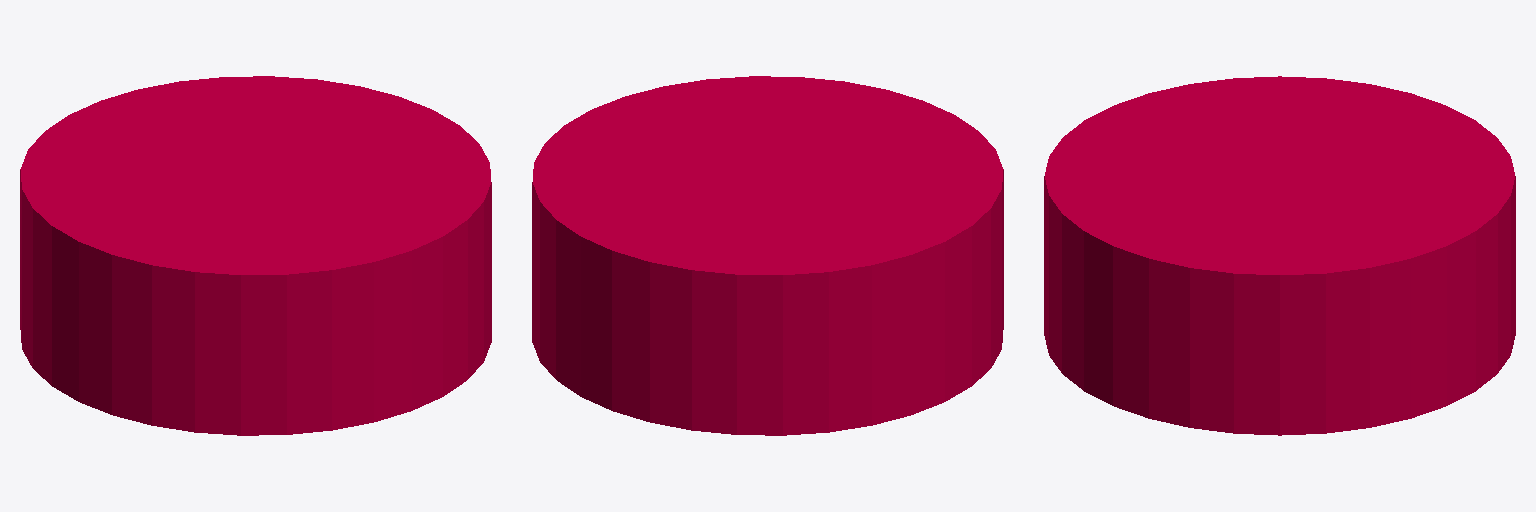
The robot description file, URDF, robot "palm":
<robot name="palm">

  <link name="palm">
		<visual>
		    <origin xyz="0 0 0." rpy="0 0 0"/>
			<geometry>
                <cylinder length="0.3" radius="0.4" />
			</geometry>
			<material name="anotherOne">
	       		<color rgba=".8 0. 0.3 1.0"/>
	     	</material>
		</visual>
        <collision>
          <geometry>
                <cylinder length="0.3" radius="0.4" />
          </geometry>
        </collision>
        <inertial>
          <mass value="1.5"/>
        <inertia ixx=".50" ixy="0.0" ixz="0" iyy=".5" iyz="0.0" izz=".5"/>
    </inertial>
  </link>

</robot>

--- Render facts (derived) ---
The picture shows the robot from 3 angles, left to right: view 1: azimuth 30°, elevation 25°; view 2: azimuth 150°, elevation 25°; view 3: azimuth 270°, elevation 25°; orthographic projection.
Model palm with 1 links and 0 joints (none), rooted at palm, posed all joints at 0.
Links seen in each view (by area): view 1: palm; view 2: palm; view 3: palm.
Link boxes in pixels (<box>): palm: <box>20,76,491,435</box>; palm: <box>532,76,1003,435</box>; palm: <box>1044,76,1515,435</box>.
Size in the robot's own frame: 0.8 by 0.8 by 0.3 metres.
Geometry: primitives only (box / cylinder / sphere), no mesh files.